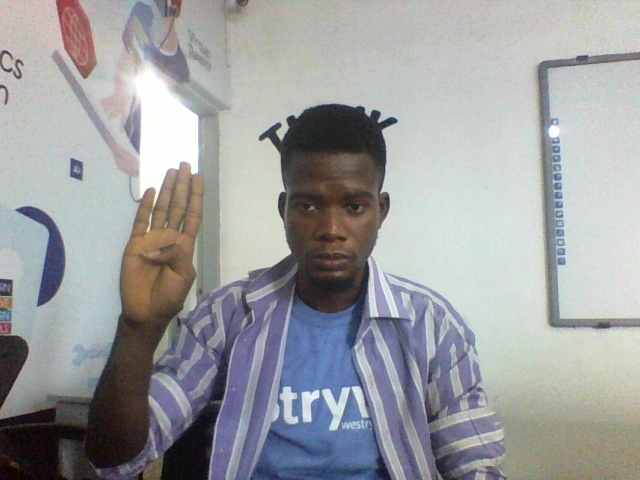hello: (113, 158, 205, 347)
